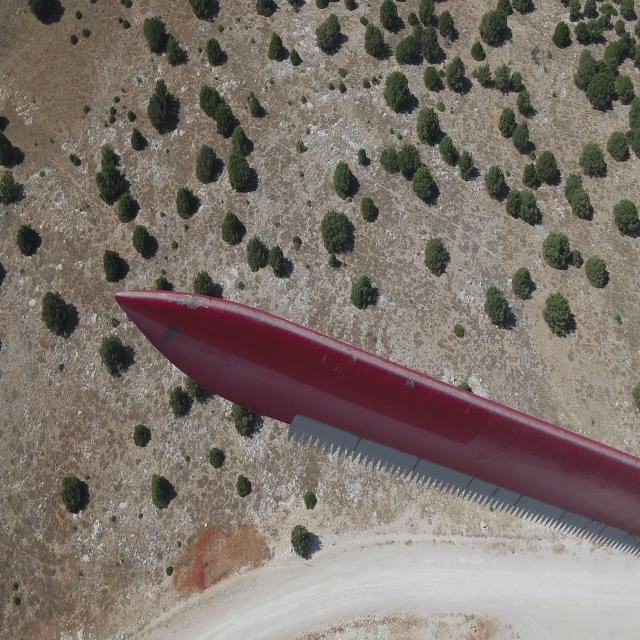Coating_defects: (399, 370, 424, 396)
EROSION: (162, 285, 216, 313)
